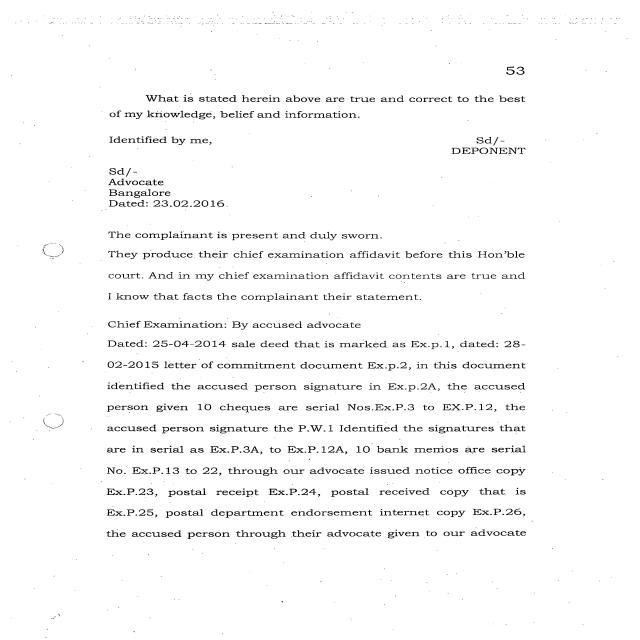page-number: (388, 9, 621, 90)
